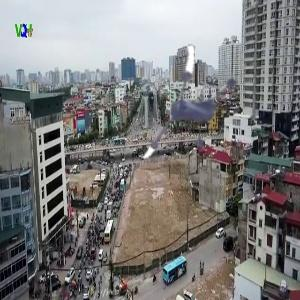drone: (128, 31, 262, 165)
